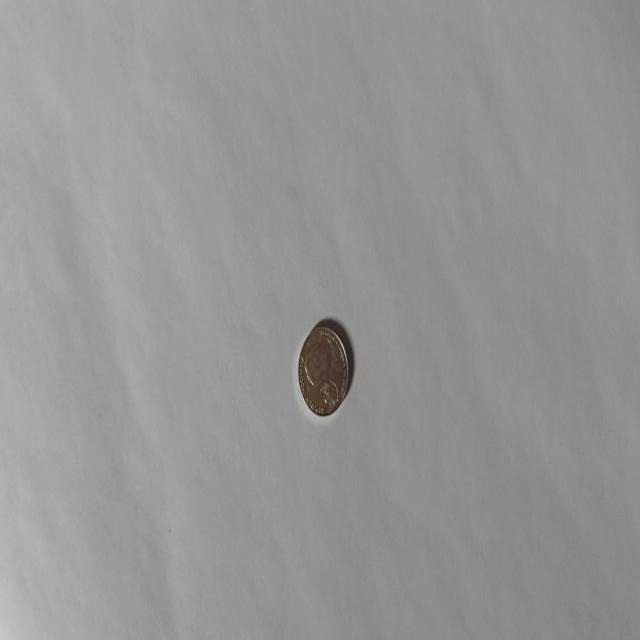seratus rupiah: (297, 323, 349, 417)
